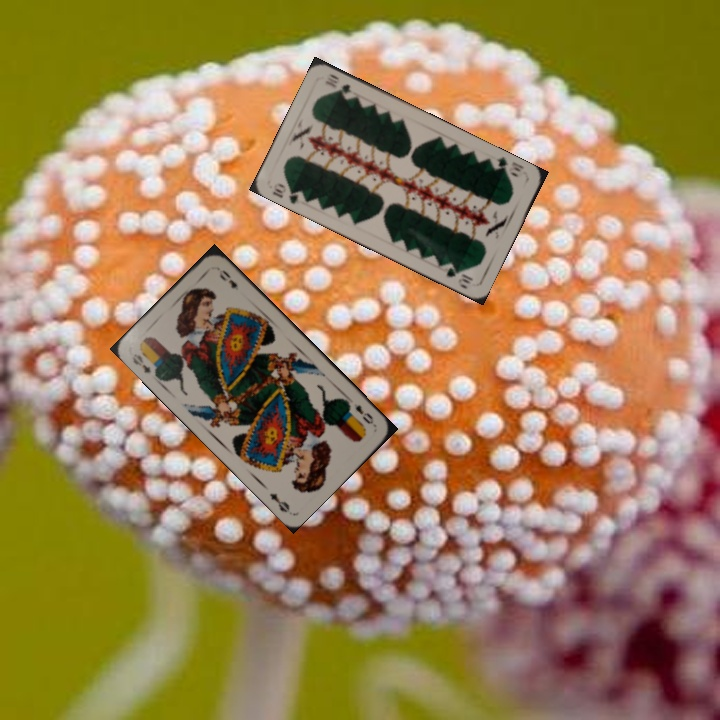EO: (344, 399, 376, 427), (128, 349, 154, 376)
G10: (268, 179, 307, 206), (488, 153, 526, 180)
